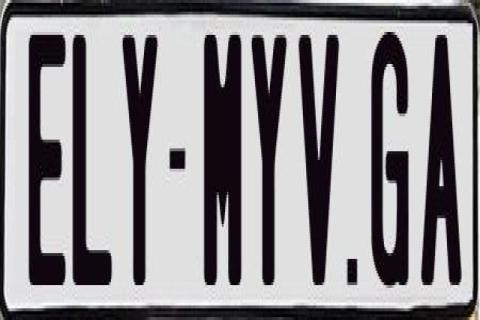A: (419, 29, 462, 282)
E: (28, 26, 68, 288)
G: (370, 29, 414, 294)
L: (69, 35, 113, 294)
M: (202, 29, 242, 279)
V: (299, 32, 345, 296)
Y: (123, 29, 161, 294), (252, 35, 290, 291)
